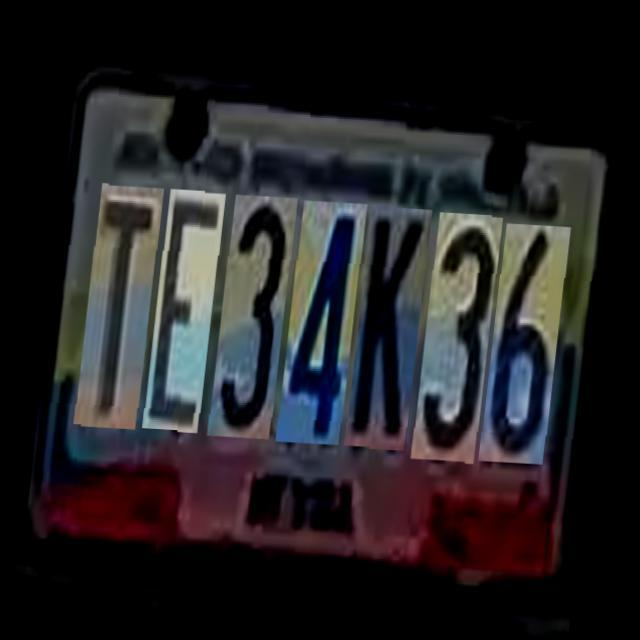3: (421, 200, 506, 448), (217, 188, 300, 432)
4: (286, 191, 370, 435)
6: (489, 208, 574, 448)
E: (152, 185, 228, 426)
K: (354, 194, 436, 438)
T: (83, 182, 166, 426)
